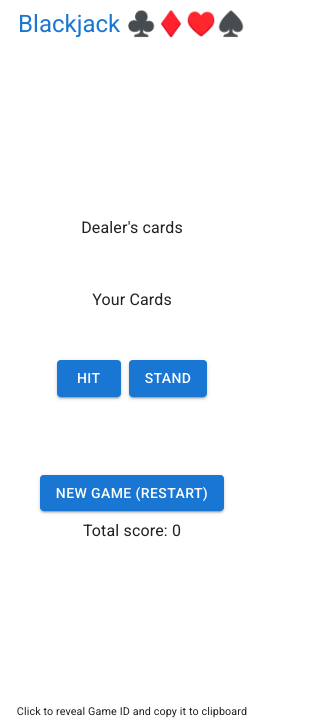
it: GameScreen › Shows and copies the game ID to clipboard on click
The width and height of the screenshot is (320, 720).
Click the text "Click to reveal Game ID and copy it to clipboard" at coordinates (132, 712), box x1=17 y1=704 x2=247 y2=719
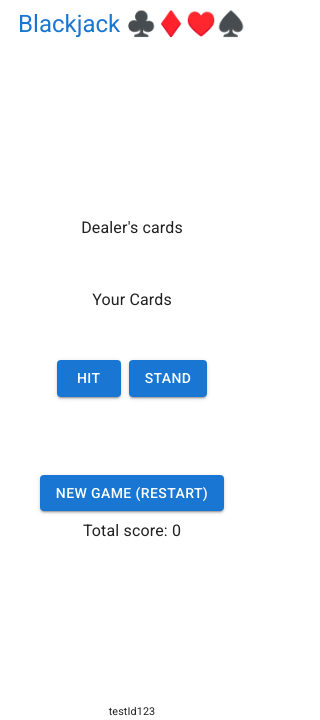
Expected: the text "testId123" is shown, x1=109 y1=704 x2=155 y2=719
